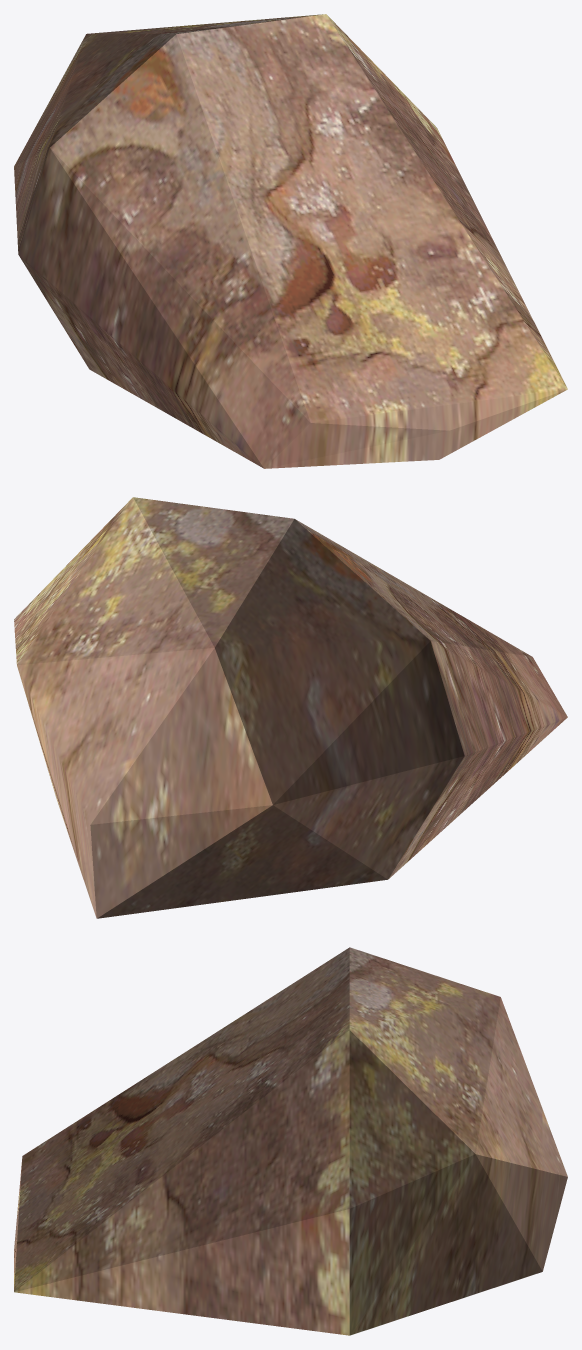
Rendered from rock10.fbx.
3 views of the same model, one above another, from view 1: azimuth 30°, elevation 25°; view 2: azimuth 150°, elevation 25°; view 3: azimuth 270°, elevation 25° (orthographic). The views are drawn at different scales.
Parts seen in each view (by area): view 1: rock10; view 2: rock10; view 3: rock10.
Part boxes in pixels (left/top/right/bottom): rock10: left=14, top=14, right=567, bottom=468; rock10: left=14, top=497, right=567, bottom=918; rock10: left=14, top=947, right=567, bottom=1335.
Size of the model in its own units: 10600 by 7600 by 13200.
